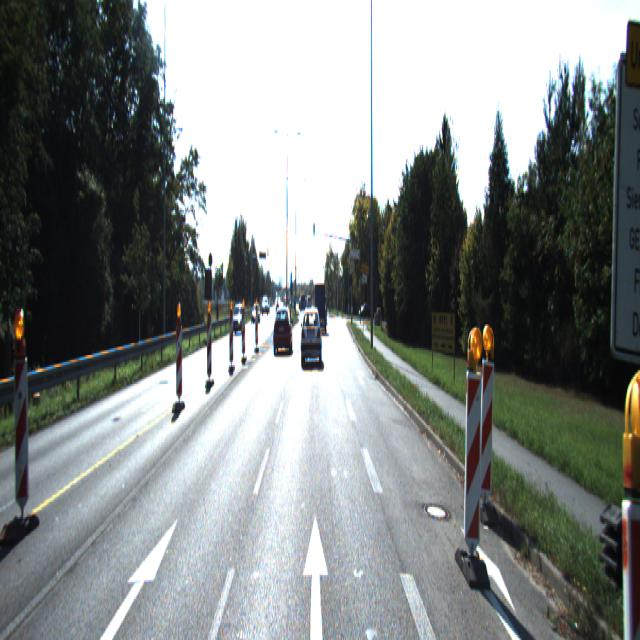Car: (300, 310, 322, 365), (273, 309, 292, 358), (232, 303, 244, 337)
DontCare: (251, 295, 268, 324), (358, 300, 371, 316), (298, 290, 311, 304)
Van: (315, 284, 326, 334)
